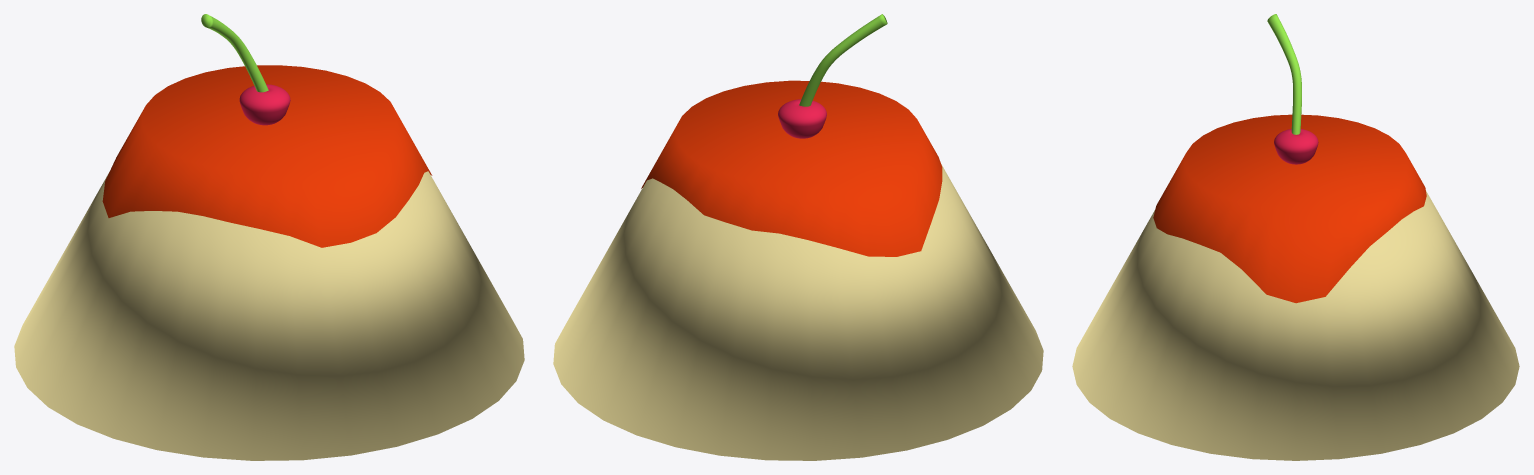
The model's file is purin.glb.
The picture shows the model from 3 angles, left to right: view 1: azimuth 30°, elevation 25°; view 2: azimuth 150°, elevation 25°; view 3: azimuth 270°, elevation 25°; orthographic projection. The views are drawn at different scales.
Parts seen in each view (by area): view 1: 球; view 2: 球; view 3: 球.
Part boxes in pixels (bbox=[...]): 球: bbox=[14, 14, 524, 460]; 球: bbox=[553, 14, 1043, 460]; 球: bbox=[1072, 14, 1519, 460].
Size of the model in its own units: 2 by 1.58 by 2.
